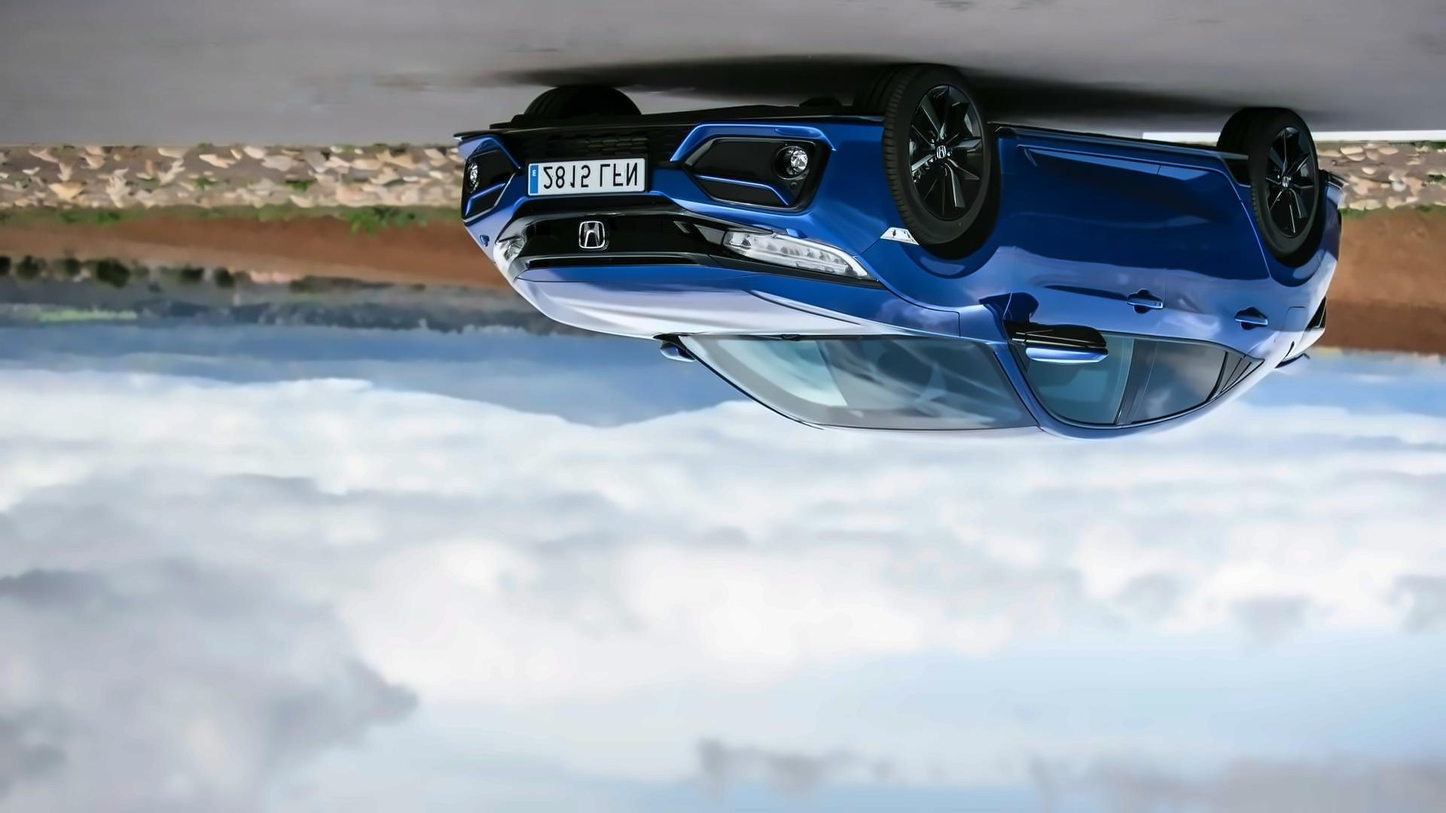Car hood: (510, 261, 965, 342)
Driver-s door - -F-R-: (1015, 146, 1165, 441)
Fender - -F-R-: (854, 118, 1023, 352)
Fender - -R-R-: (1244, 160, 1314, 342)
Front bumper: (446, 112, 898, 235)
Headlight - -L-: (485, 225, 532, 279)
Headlight - -R-: (720, 221, 885, 286)
Passenger-s door - -R-R-: (1139, 157, 1285, 443)
Rear bumper: (1312, 163, 1348, 282)
Side bumper - -R-: (983, 118, 1270, 187)
Side mirror - -L-: (652, 335, 706, 372)
Side mirror - -R-: (1010, 315, 1117, 372)
